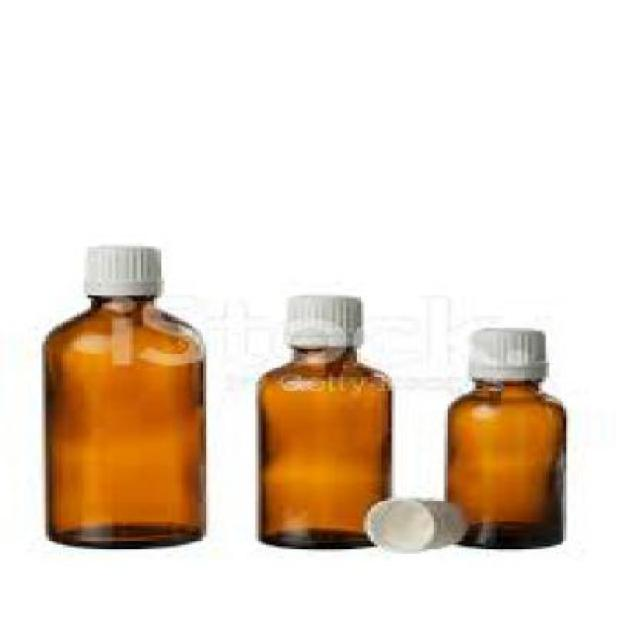kaca: (39, 295, 203, 548), (260, 346, 389, 549), (445, 377, 563, 548)
